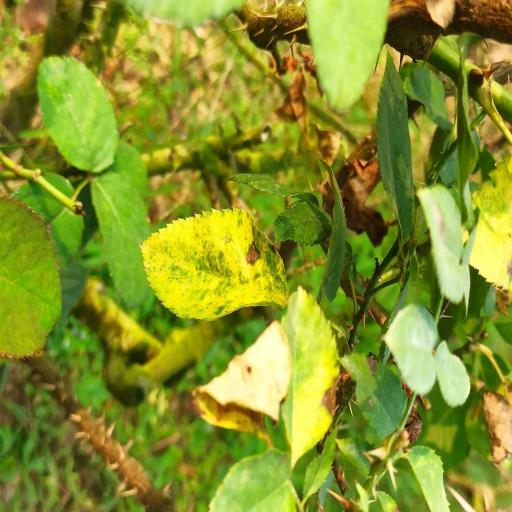healthy_leaf: (0, 197, 61, 358), (37, 56, 118, 172), (306, 0, 388, 112), (92, 171, 150, 306), (418, 186, 470, 309), (342, 354, 406, 440), (209, 450, 295, 512), (384, 304, 436, 394), (402, 446, 448, 512), (274, 200, 330, 245), (434, 342, 470, 406)
red_mite: (142, 208, 286, 320), (281, 287, 338, 466)
thrip: (194, 321, 290, 431)
